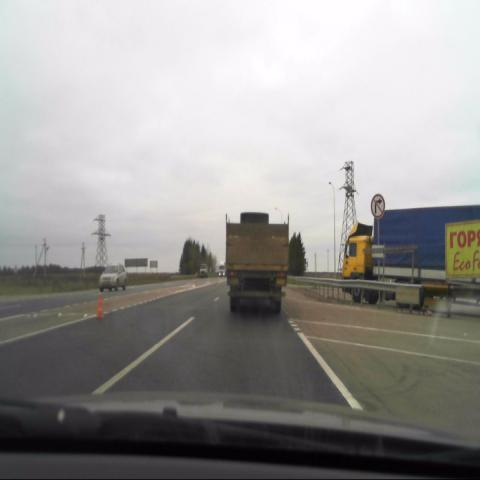3_18: (371, 195, 385, 218)
